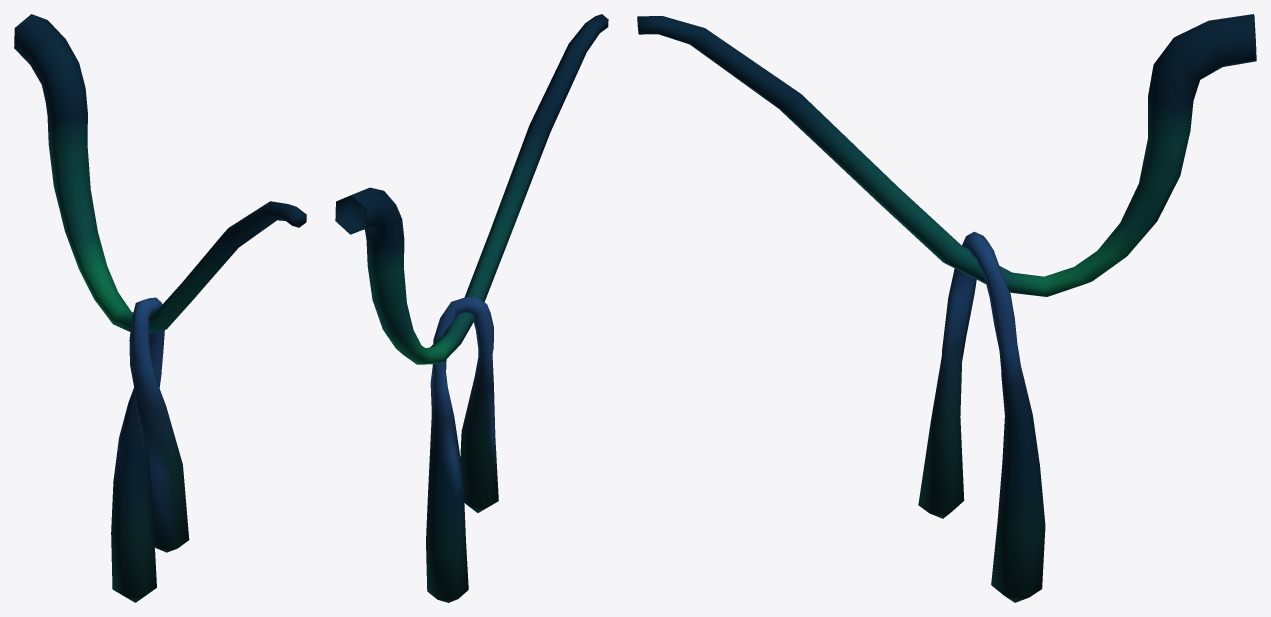
File: Alien_SkyRoot04.fbx
3 renders of one model, left to right at view 1: azimuth 30°, elevation 25°; view 2: azimuth 150°, elevation 25°; view 3: azimuth 270°, elevation 25°, orthographic. The views are drawn at different scales.
Parts seen in each view (by area): view 1: Alien_SkyRoot04; view 2: Alien_SkyRoot04; view 3: Alien_SkyRoot04.
Boxes of the visible parts, x1,y1,x2,y2 form: Alien_SkyRoot04: [14, 14, 306, 602]; Alien_SkyRoot04: [335, 14, 608, 602]; Alien_SkyRoot04: [637, 14, 1256, 602].
Size of the model in its own units: 526 by 5264 by 5018.
